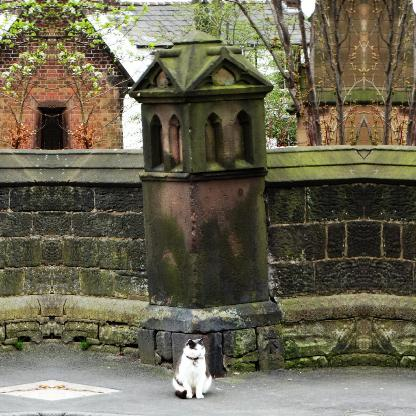Cat: (169, 335, 213, 397)
